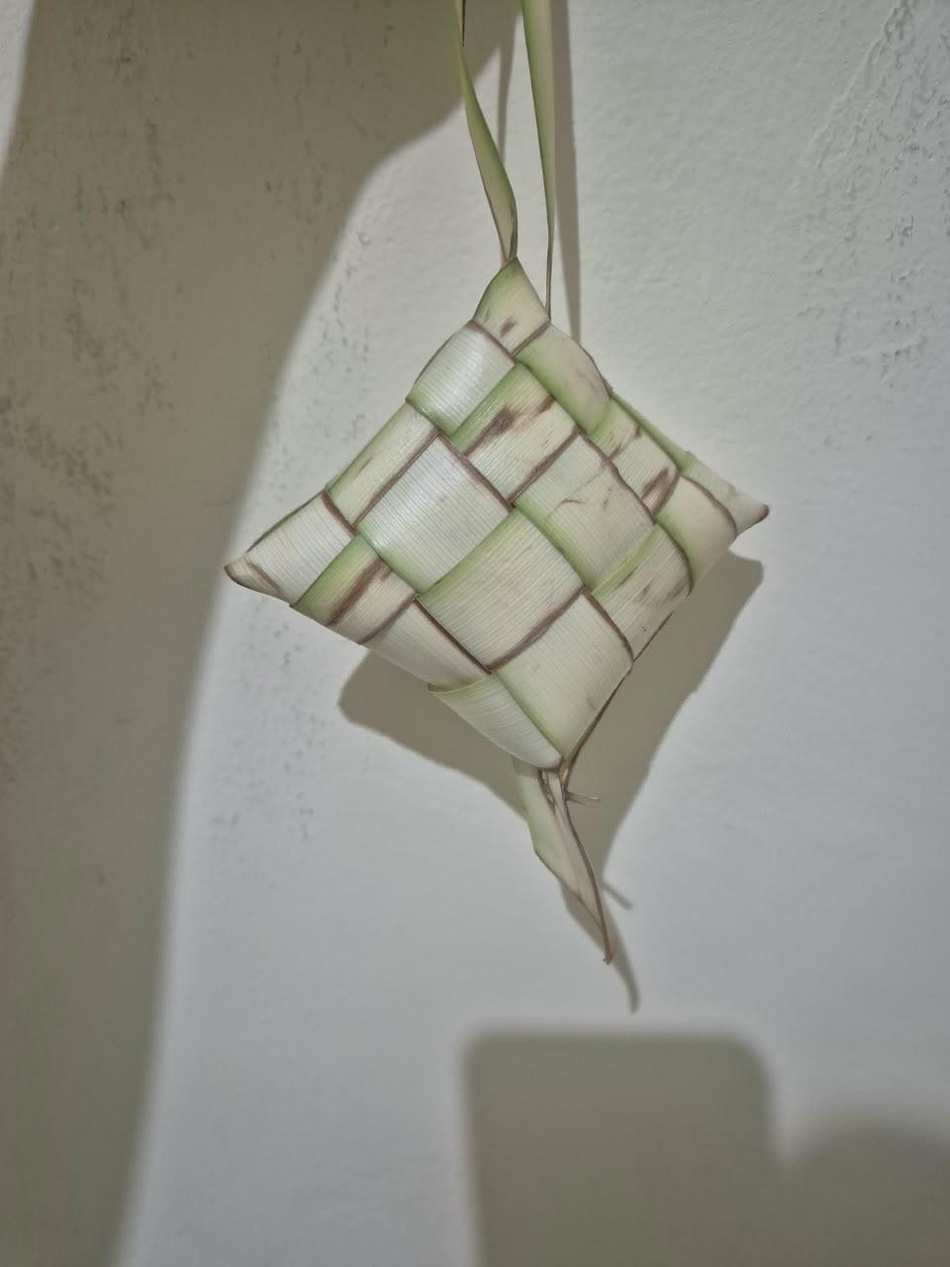Tipat Nasi: (229, 259, 766, 772)
